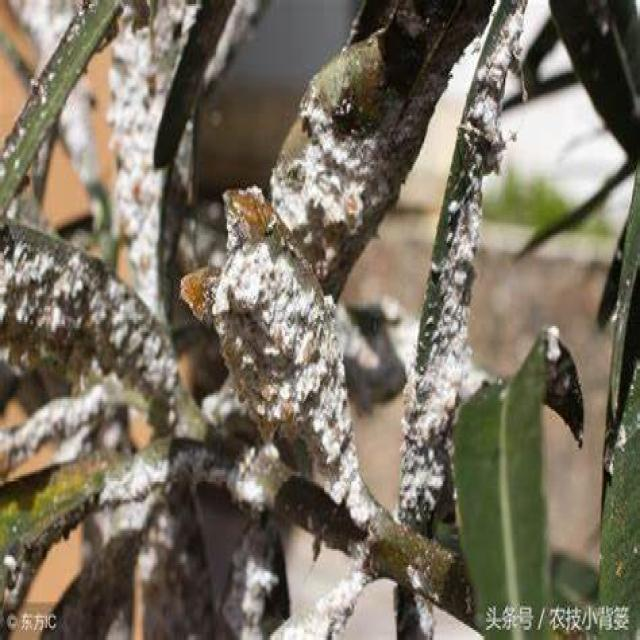Psyllid: (398, 0, 524, 525), (211, 245, 393, 547), (0, 221, 182, 433), (270, 95, 425, 290), (108, 28, 178, 324), (0, 395, 105, 480), (269, 569, 369, 638), (101, 439, 170, 506)
